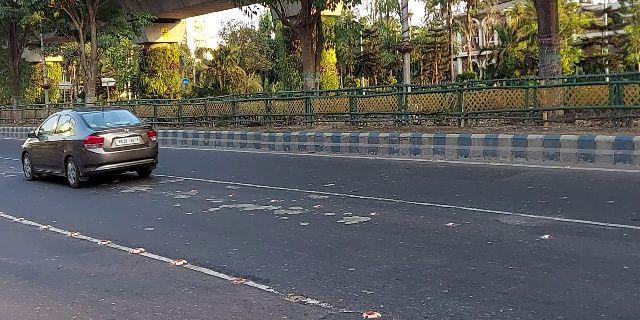Car: (17, 107, 159, 188)
